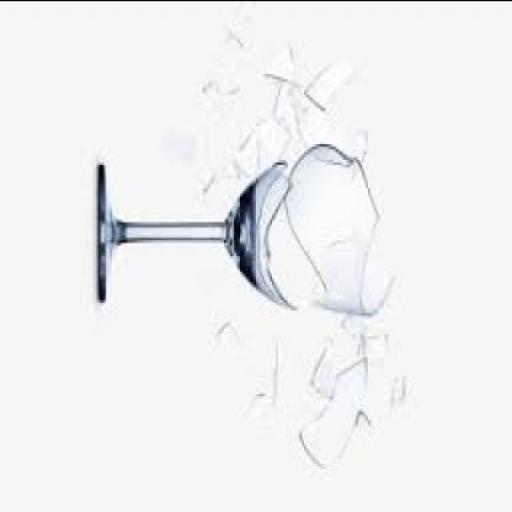glass: (100, 159, 300, 299), (288, 143, 398, 315), (298, 354, 368, 462), (234, 317, 290, 421), (302, 99, 374, 166), (210, 31, 260, 88), (260, 112, 290, 169), (310, 60, 348, 104), (268, 41, 306, 81), (277, 76, 306, 127), (204, 166, 232, 211), (222, 307, 244, 361), (364, 322, 394, 361), (314, 346, 336, 395), (379, 372, 414, 398), (240, 132, 265, 167), (344, 311, 362, 351)
